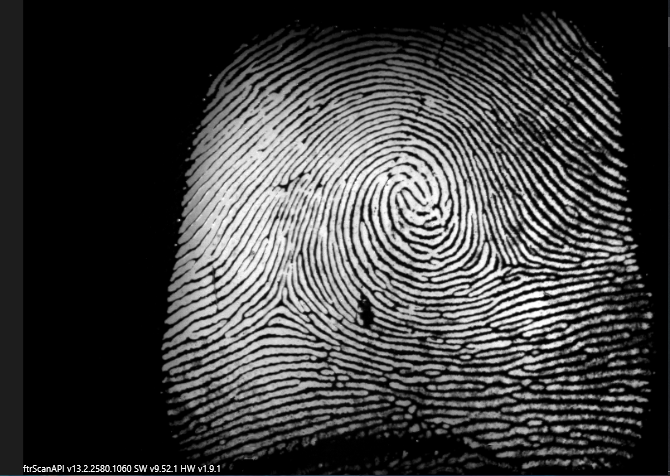deltas: (479, 241, 528, 297), (257, 273, 304, 322)
nucleo: (385, 164, 431, 229)
